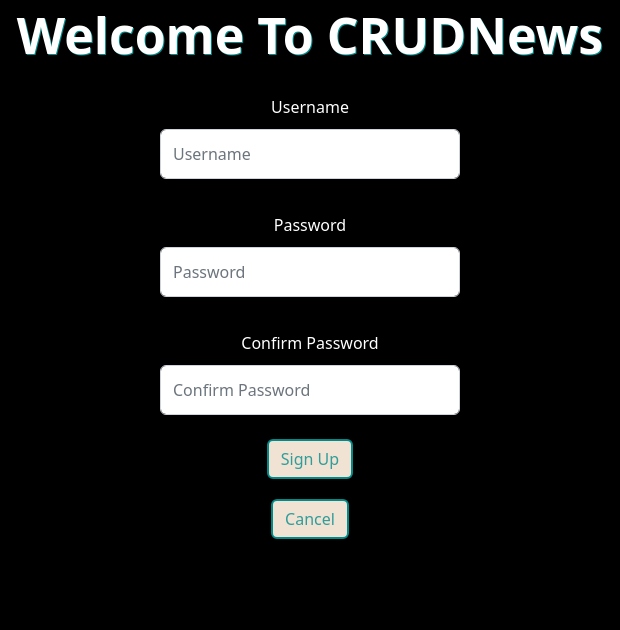
Test case: SignUpPage › shows an error when confirmed password is invalid
The image size is (620, 630).
Type "user1" into the field labelled "Username" at (310, 154), box [160,129,460,179]
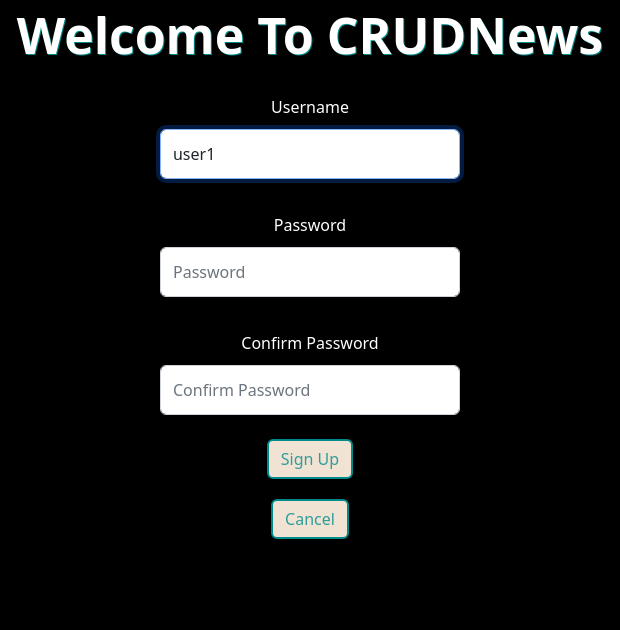
Type "Password1!" into the password field labelled "Password" at (310, 272), box [160,247,460,297]
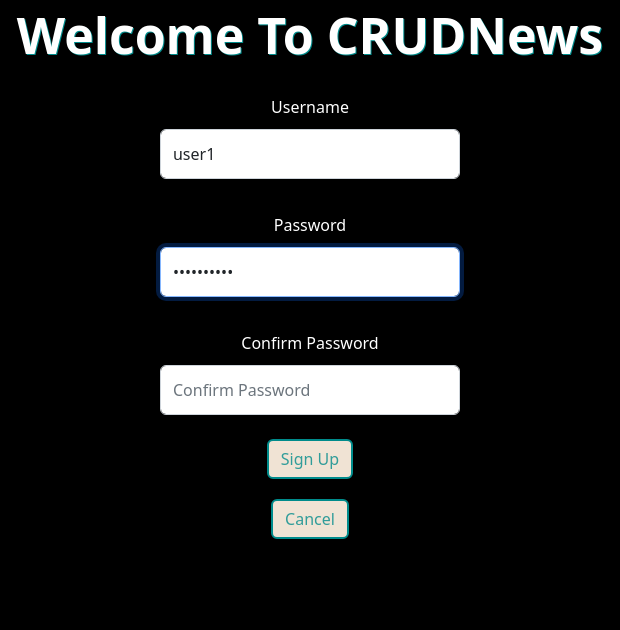
Type "password" into the password field labelled "Confirm Password" at (310, 390), box [160,365,460,415]
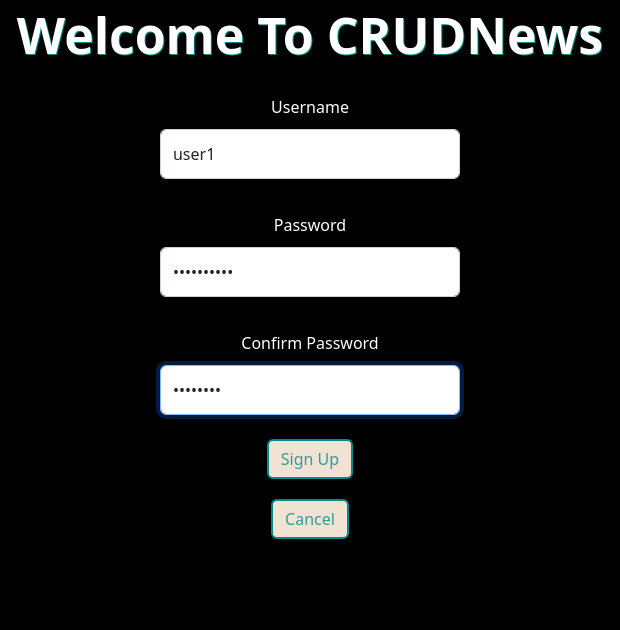
Click the button "Sign Up" at (310, 459), box [267,439,353,479]
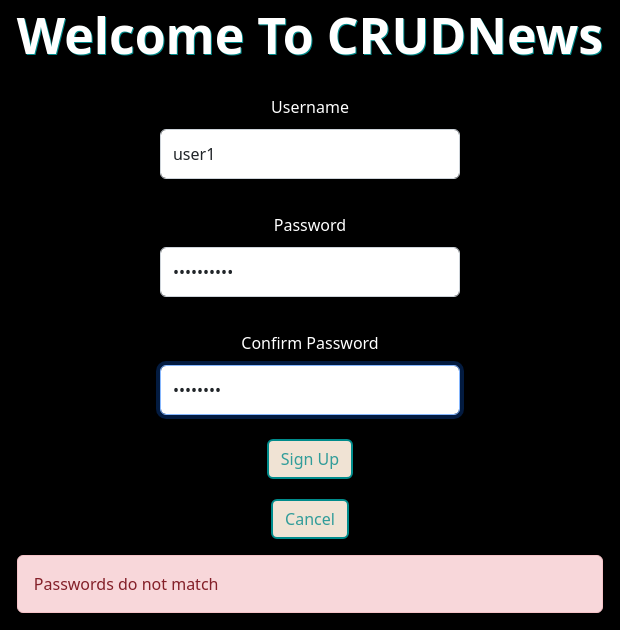
Now the text "Passwords do not match" is shown, box [17,555,603,613]
